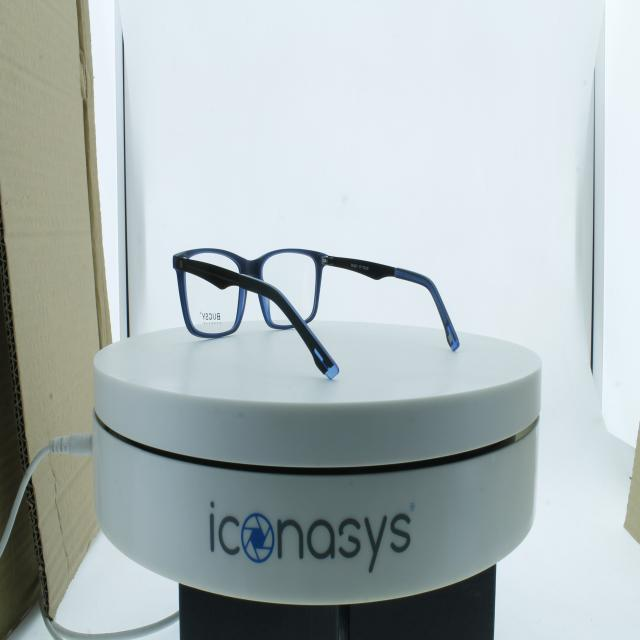Specs: (156, 214, 469, 396)
